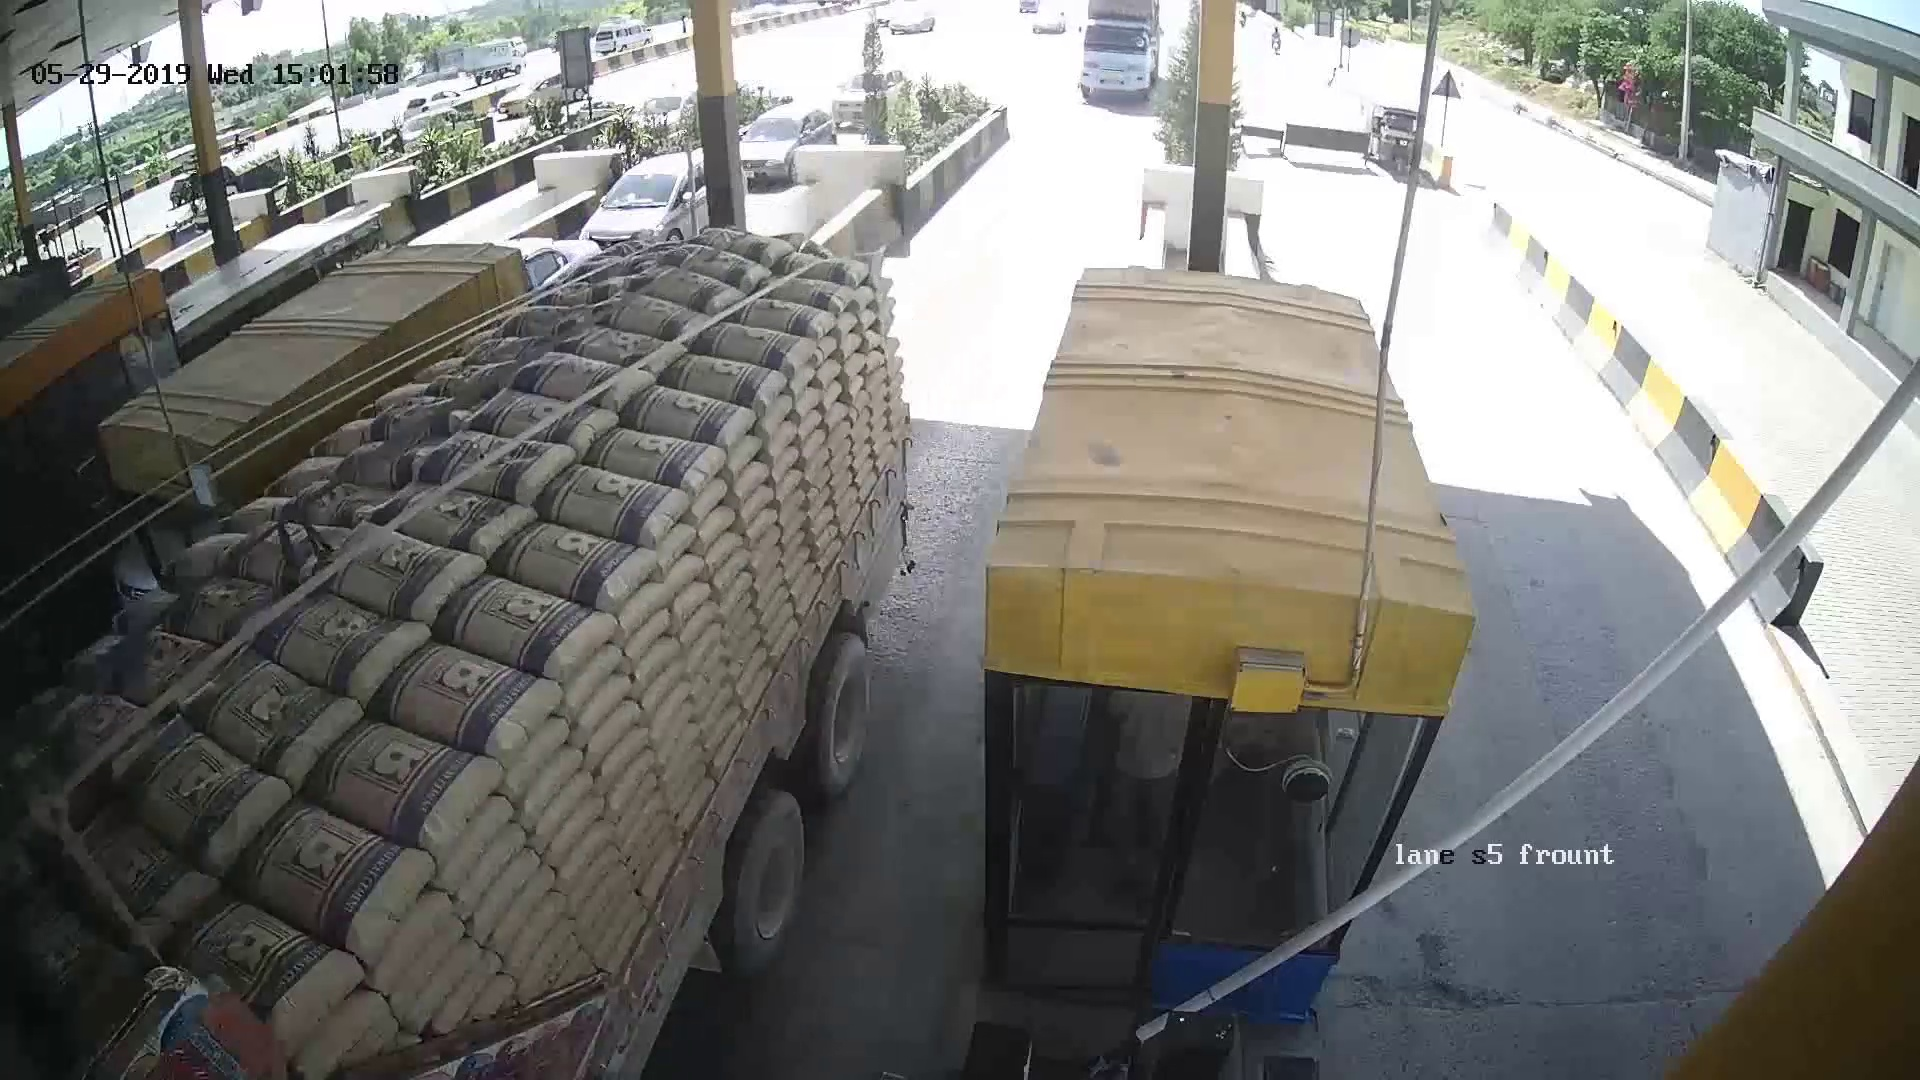truck: (471, 338, 893, 953)
